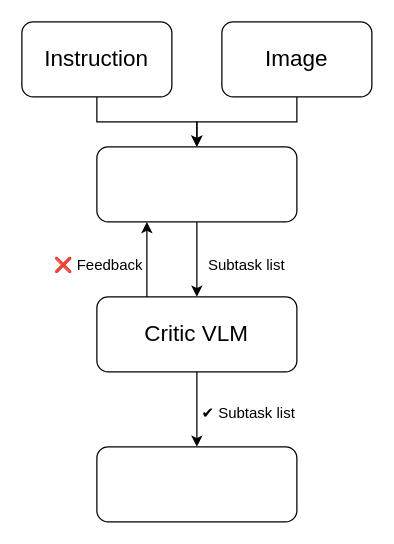
Some shapes in this 394 by 544 pixel diagram are drawn without their labels. The shapes that lost their labels are listed below. From the top down, each one's centre as x and y in pixels, then its label:
point 196,184: Planner VLM
point 196,484: Robot Arm
